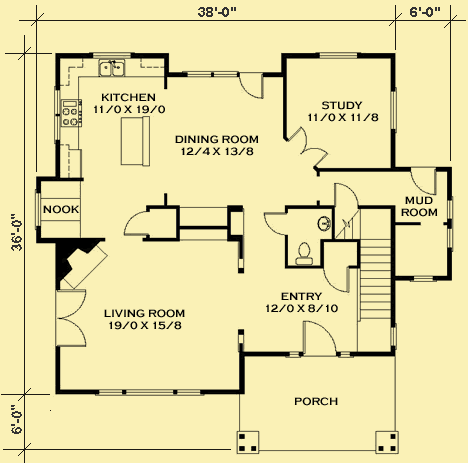door: (54, 289, 87, 346), (289, 127, 327, 168), (302, 320, 339, 358), (409, 166, 438, 197), (122, 209, 150, 240), (320, 266, 350, 294), (238, 72, 265, 102), (333, 181, 362, 208), (261, 212, 287, 237)
large_sink: (294, 241, 315, 267)
stairs: (356, 237, 391, 351)
twin_sink: (97, 58, 129, 79)
window: (94, 389, 201, 397), (444, 197, 458, 253), (51, 86, 62, 141), (180, 71, 238, 81), (317, 49, 361, 62), (389, 85, 398, 134), (32, 191, 44, 226), (404, 274, 435, 282), (390, 324, 398, 348)
